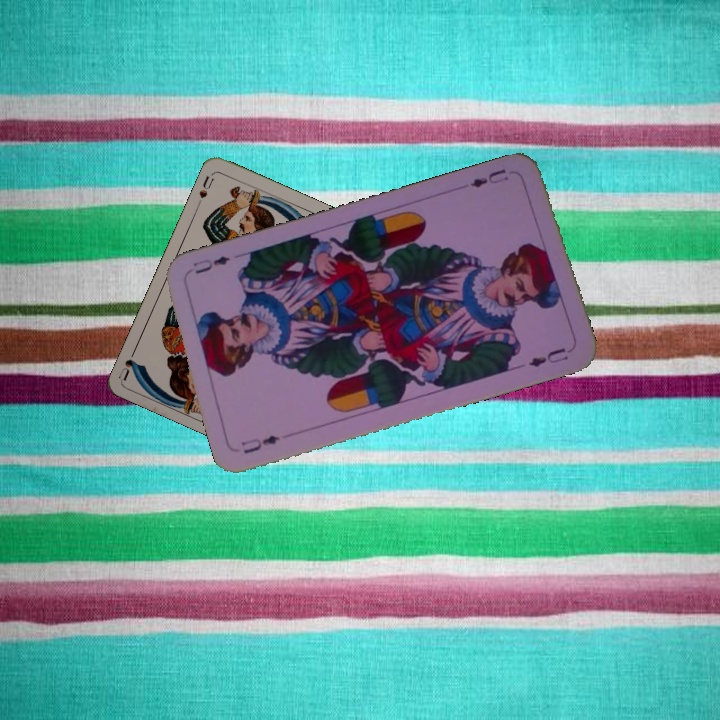EU: (237, 431, 283, 457), (466, 164, 511, 190)
SU: (193, 169, 217, 208)
